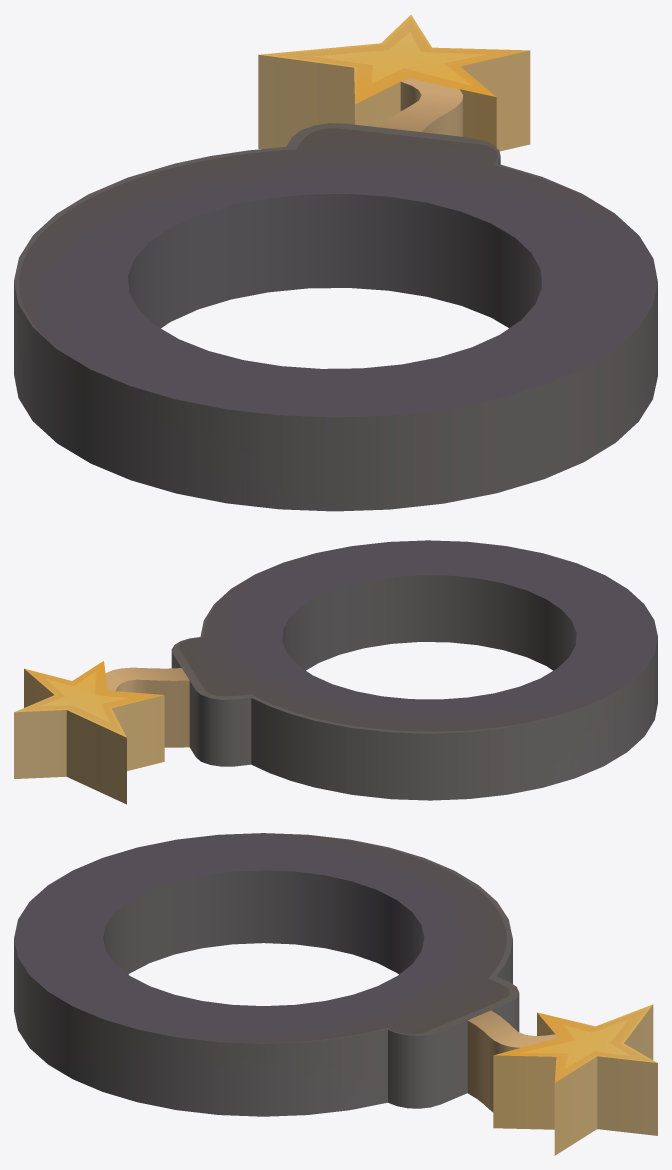
File: Bomb.FBX
The picture shows the model from 3 angles, top to bottom: view 1: azimuth 30°, elevation 25°; view 2: azimuth 150°, elevation 25°; view 3: azimuth 270°, elevation 25°; orthographic projection. The views are drawn at different scales.
Visible parts, largest first — view 1: Bomb; view 2: Bomb; view 3: Bomb.
Boxes of the visible parts, <box> form: Bomb: <box>14,15,657,511</box>; Bomb: <box>14,540,657,804</box>; Bomb: <box>14,833,657,1155</box>.
Size of the model in its own units: 51.51 by 7 by 56.07.
1 material, 1 textured.
